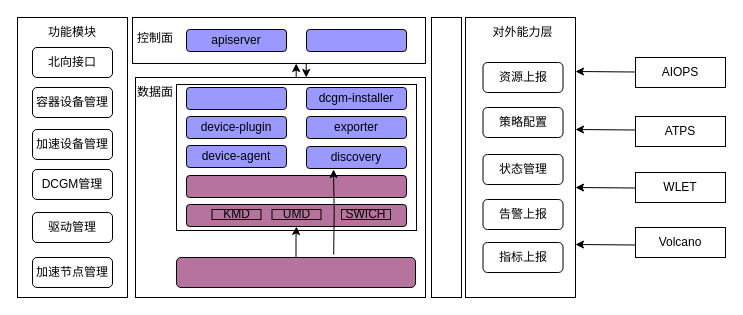
This 743x315 diagram has some shape labels left out. Each missing label, with the box of its shape:
API: (430, 16, 462, 298)
DCGM: (186, 174, 406, 198)
driver-container: (186, 86, 286, 110)
GPU硬件: NVIDIA、BIREN、HWJ: (176, 256, 416, 288)
operator: (306, 28, 406, 52)
